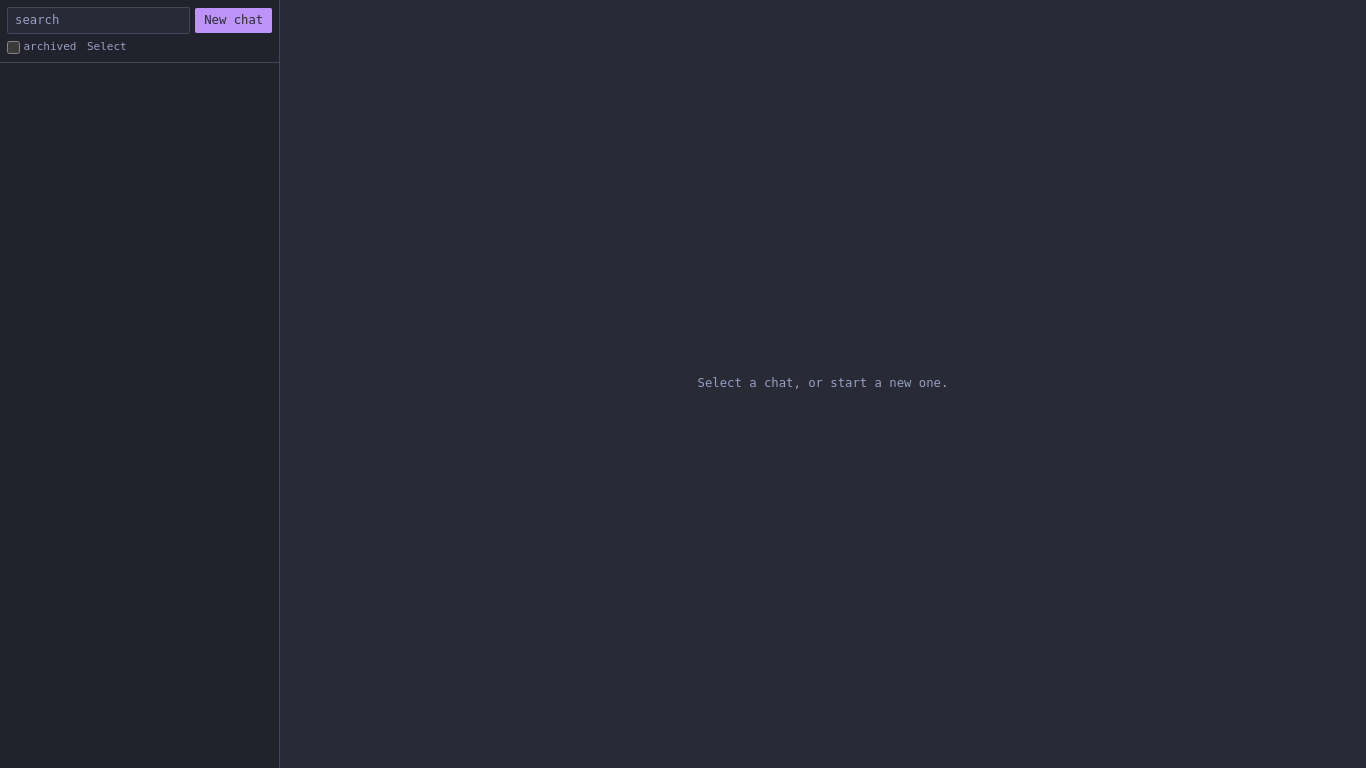
Test case: New chat form (inline in the main panel) › shows the hub's error and stays open
Click the button "New chat" at (234, 20), box [196,8,272,32]
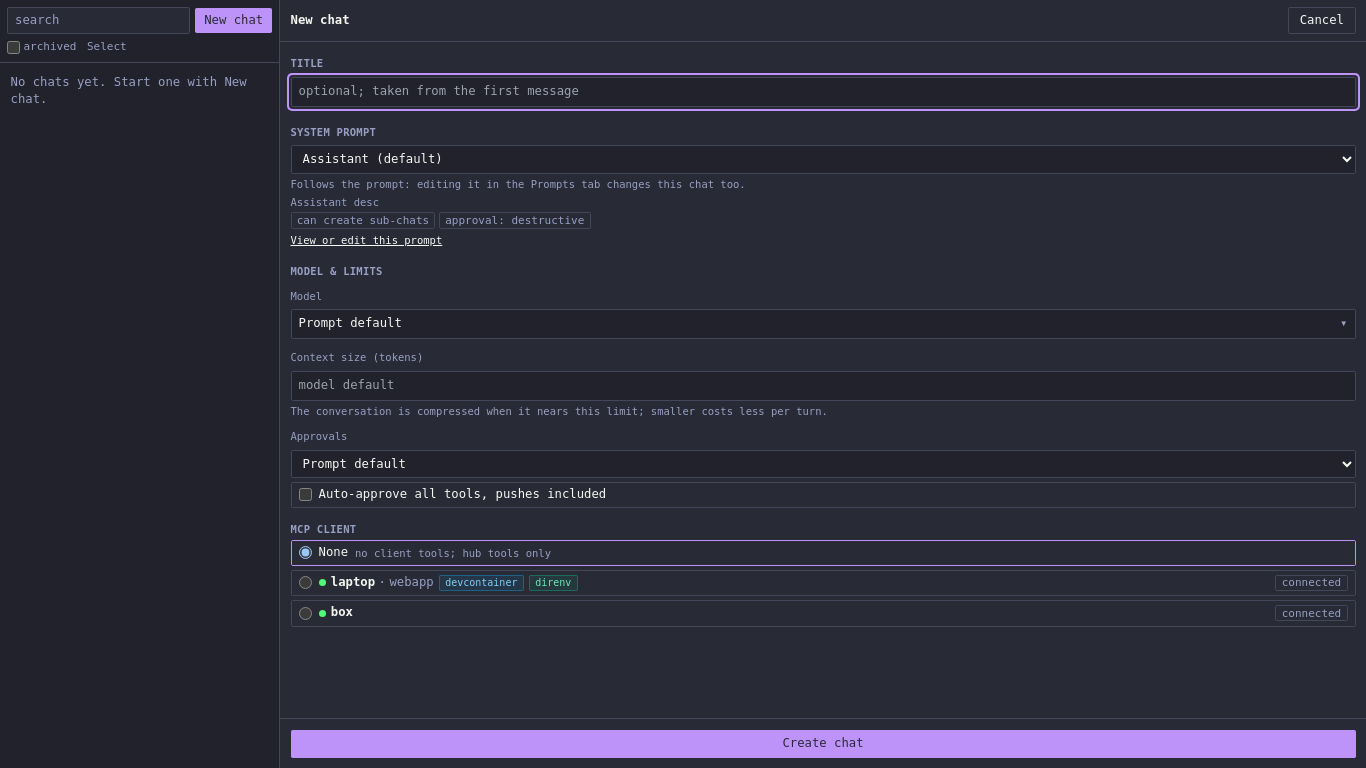
Expected: the heading "New chat" is shown, [290,12,350,26]
Click the button "Create chat" at (823, 744), box [290,730,1356,758]
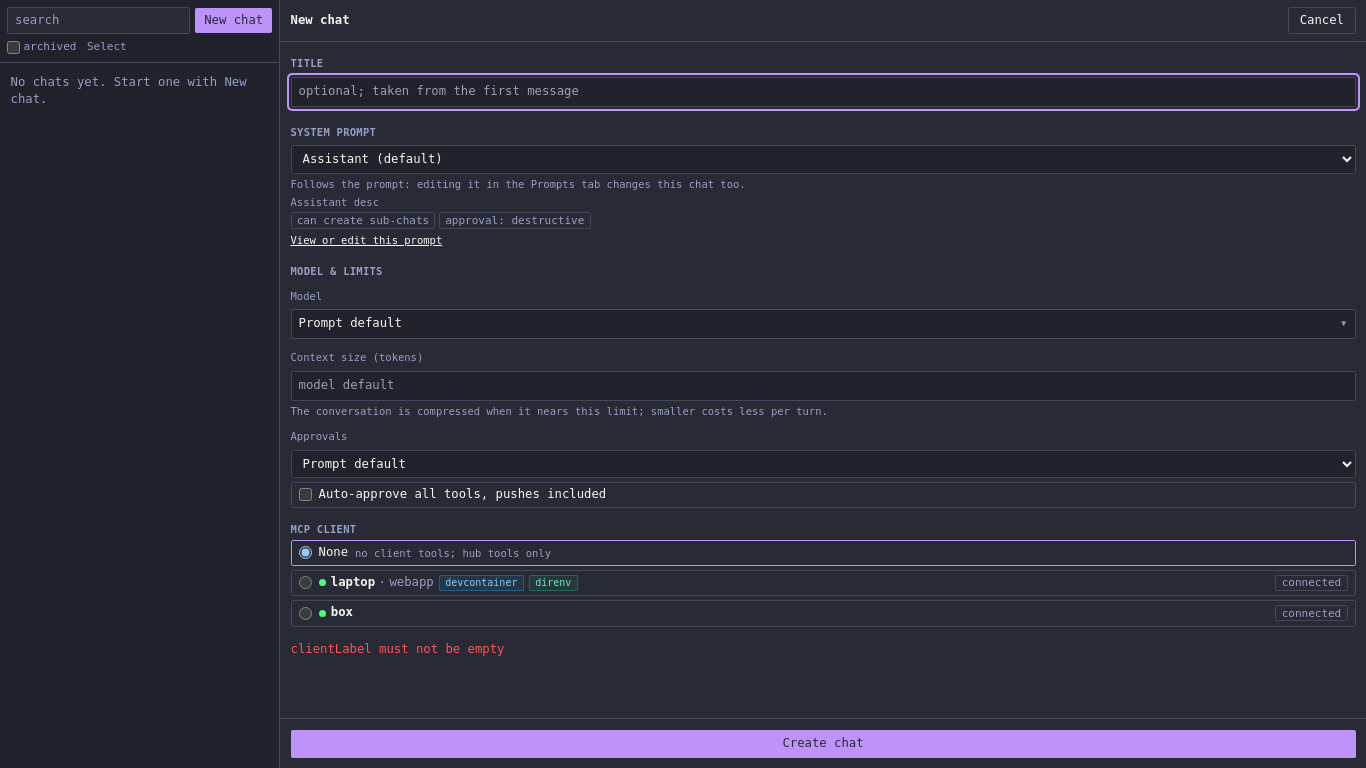
Expected: the heading "New chat" is shown, [290,12,350,26]
Expected: the message reads "clientLabel must not be empty", [290,642,504,656]
